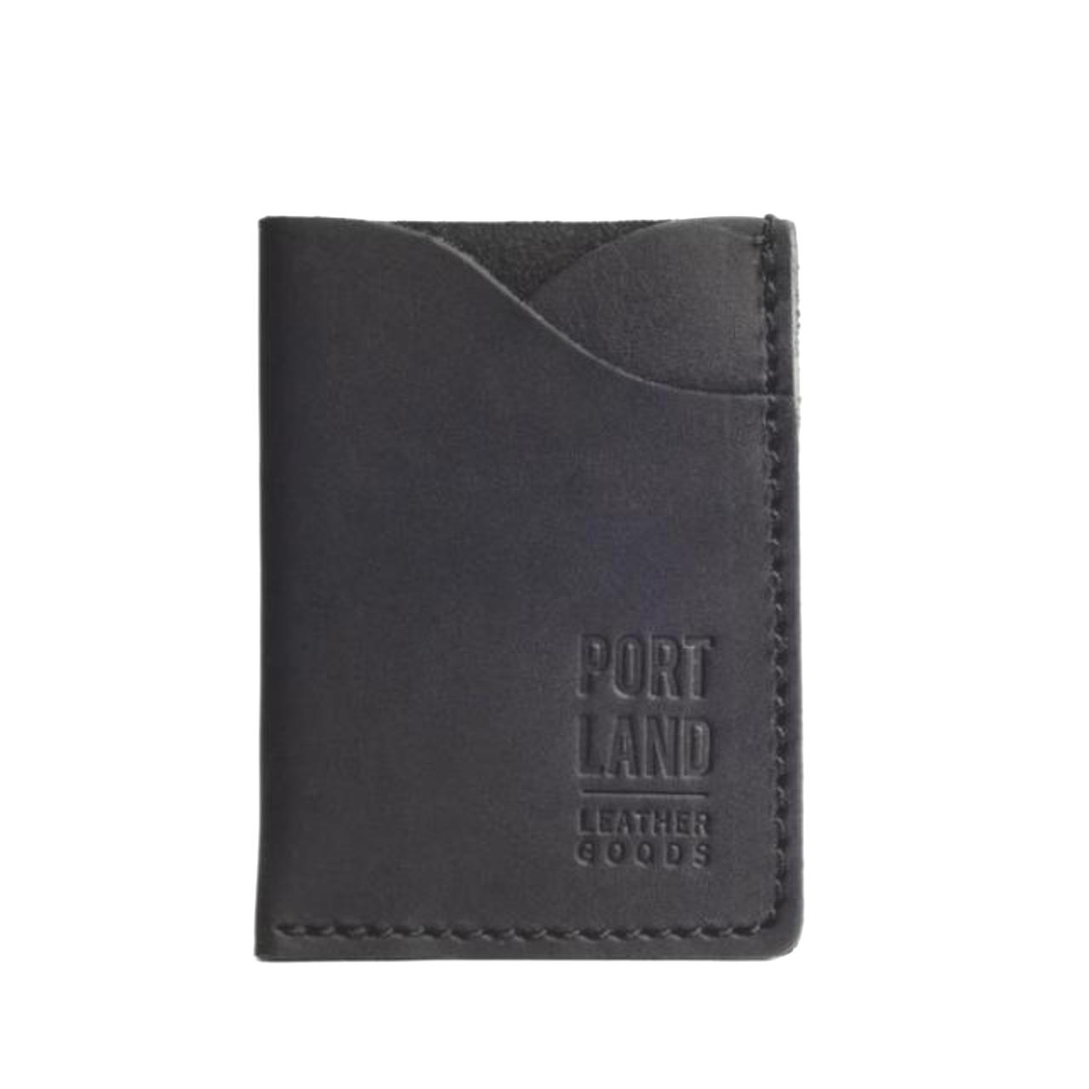wallet: (217, 187, 824, 990)
